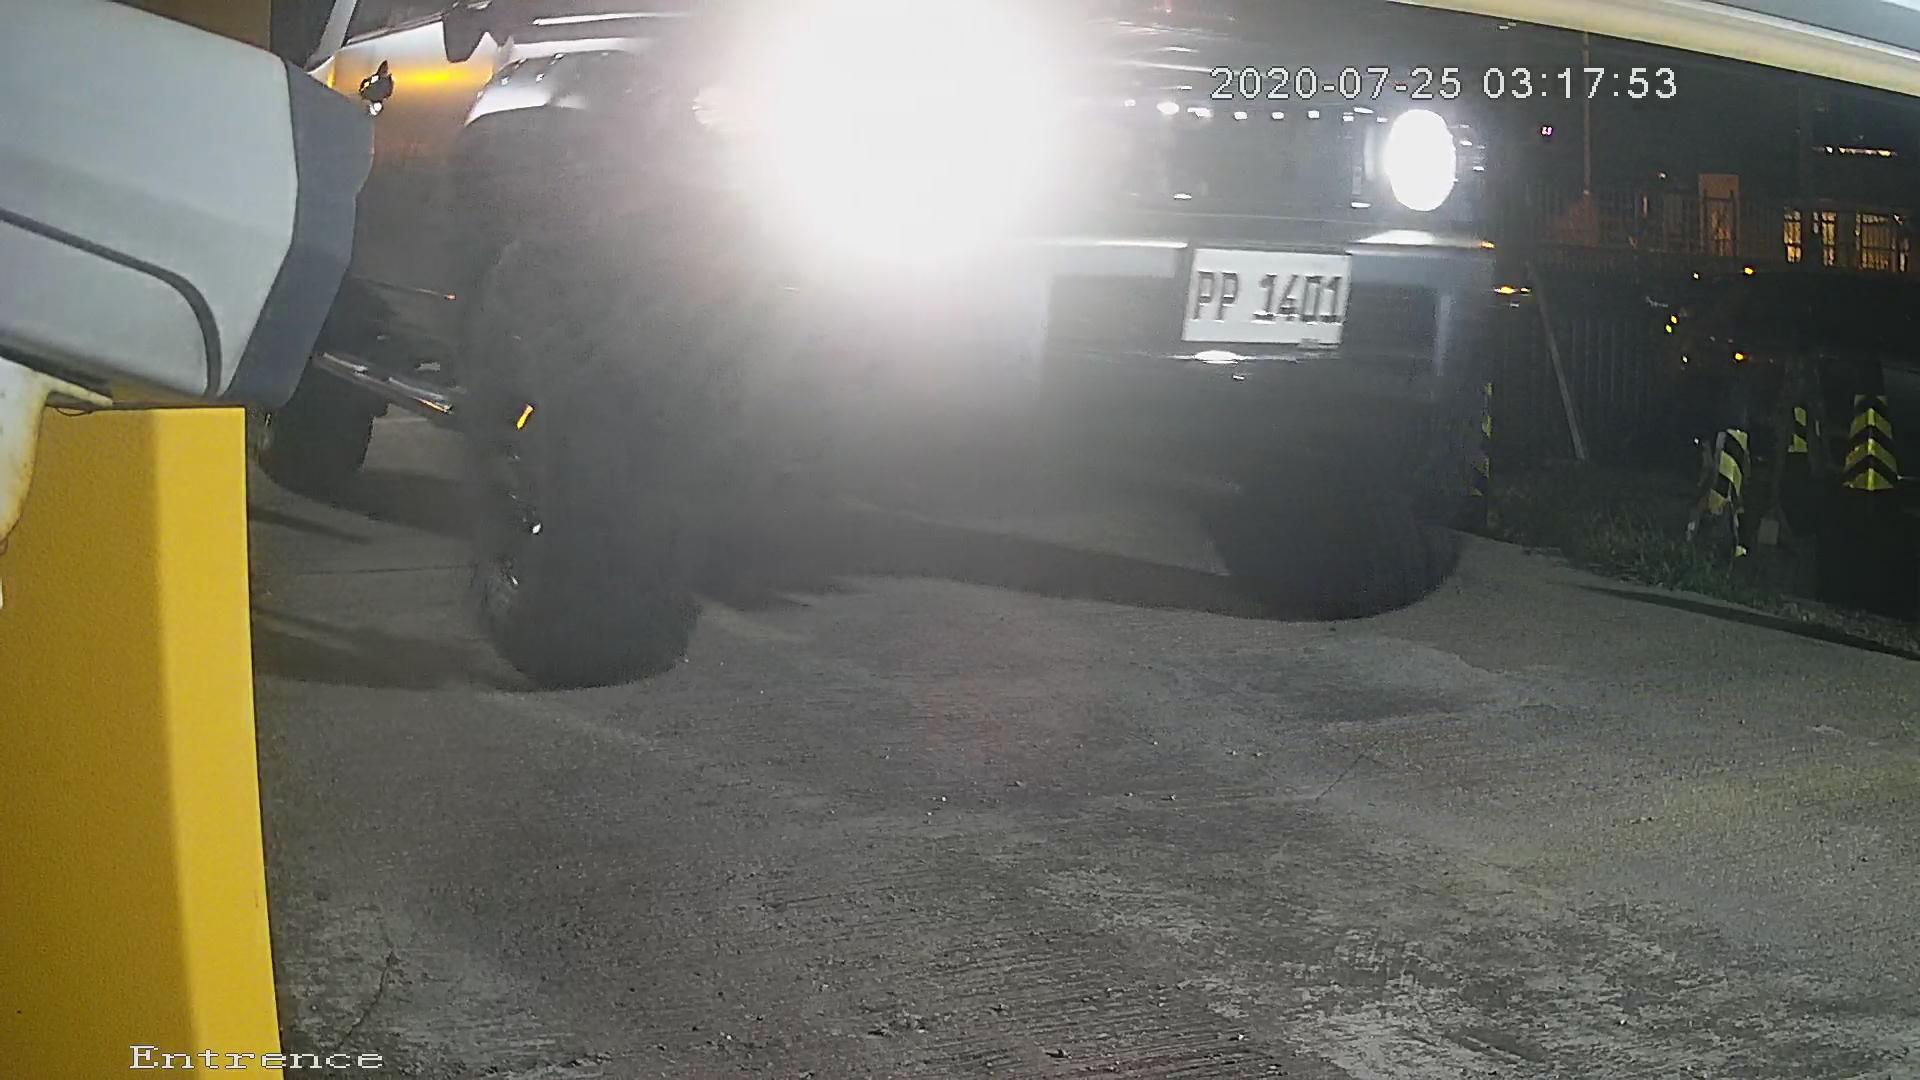Car: (232, 1, 1595, 671)
License Plate: (1158, 237, 1372, 362)
